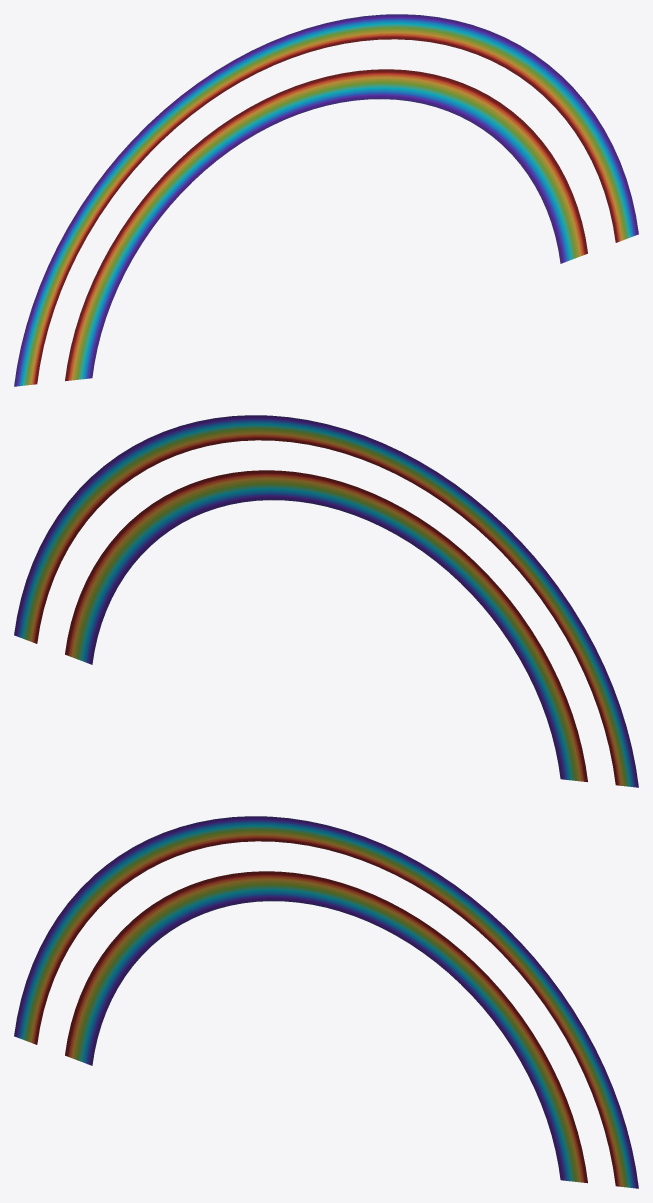
File: P_RainbowDouble.obj
3 views of the same model, one above another, from view 1: azimuth 30°, elevation 25°; view 2: azimuth 150°, elevation 25°; view 3: azimuth 330°, elevation 25° (orthographic).
Bounding box in the file's own units: 84.82 × 38.66 × 2.85e-05.
